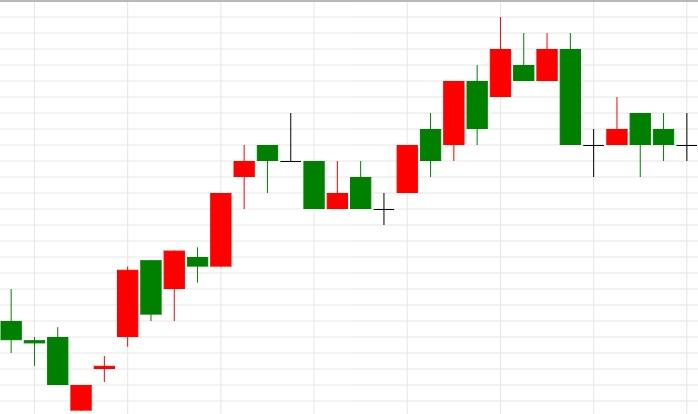bearish_engulfing_fall: (372, 16, 582, 225)
hanging_man_fall: (69, 144, 279, 411)
